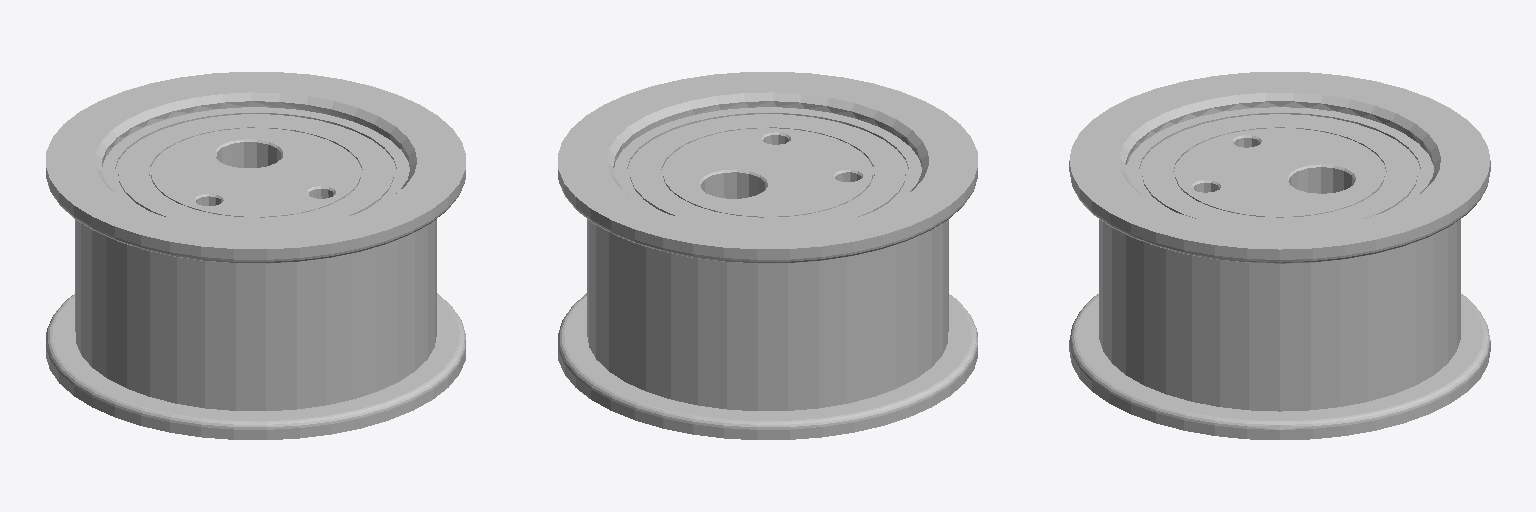
The model's file is Натяжитель автоматический ремня ГРМ.obj.
3 renders of one model, left to right at view 1: azimuth 30°, elevation 25°; view 2: azimuth 150°, elevation 25°; view 3: azimuth 270°, elevation 25°, orthographic.
Parts seen in each view (by area): view 1: Натяжитель_автоматический_ремня_Г; view 2: Натяжитель_автоматический_ремня_Г; view 3: Натяжитель_автоматический_ремня_Г.
Boxes of the visible parts, <box> form: Натяжитель_автоматический_ремня_Г: <box>46,72,465,439</box>; Натяжитель_автоматический_ремня_Г: <box>558,72,977,439</box>; Натяжитель_автоматический_ремня_Г: <box>1069,72,1490,439</box>.
Bounding box in the file's own units: 64 × 32 × 64.